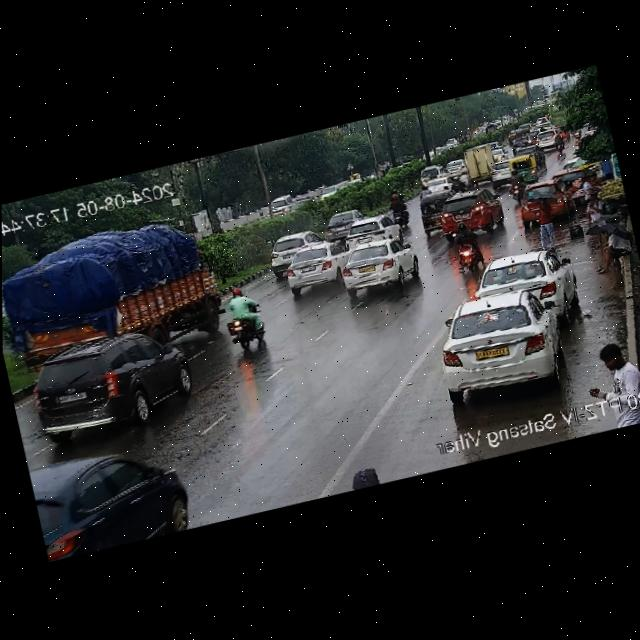car: (17, 319, 207, 449), (426, 277, 588, 408), (30, 437, 198, 561), (472, 244, 574, 322), (333, 233, 422, 297), (270, 242, 347, 297), (430, 185, 505, 241), (257, 228, 326, 275), (340, 211, 403, 246), (487, 150, 547, 185), (415, 190, 455, 229), (320, 207, 363, 240), (529, 126, 564, 153), (263, 194, 295, 219), (513, 154, 539, 184), (415, 163, 445, 183), (442, 156, 466, 178), (507, 132, 536, 150), (290, 196, 315, 214), (319, 183, 342, 199), (492, 144, 510, 163), (371, 167, 386, 180)
motorcycle: (210, 284, 269, 353), (447, 223, 486, 275), (384, 193, 411, 229), (502, 167, 525, 207), (447, 174, 470, 194)
person: (589, 337, 640, 404), (587, 223, 635, 273), (531, 195, 559, 244), (343, 463, 386, 491), (580, 379, 622, 404), (581, 183, 606, 219), (580, 170, 603, 196)
truck: (2, 202, 238, 384), (454, 143, 501, 186)
